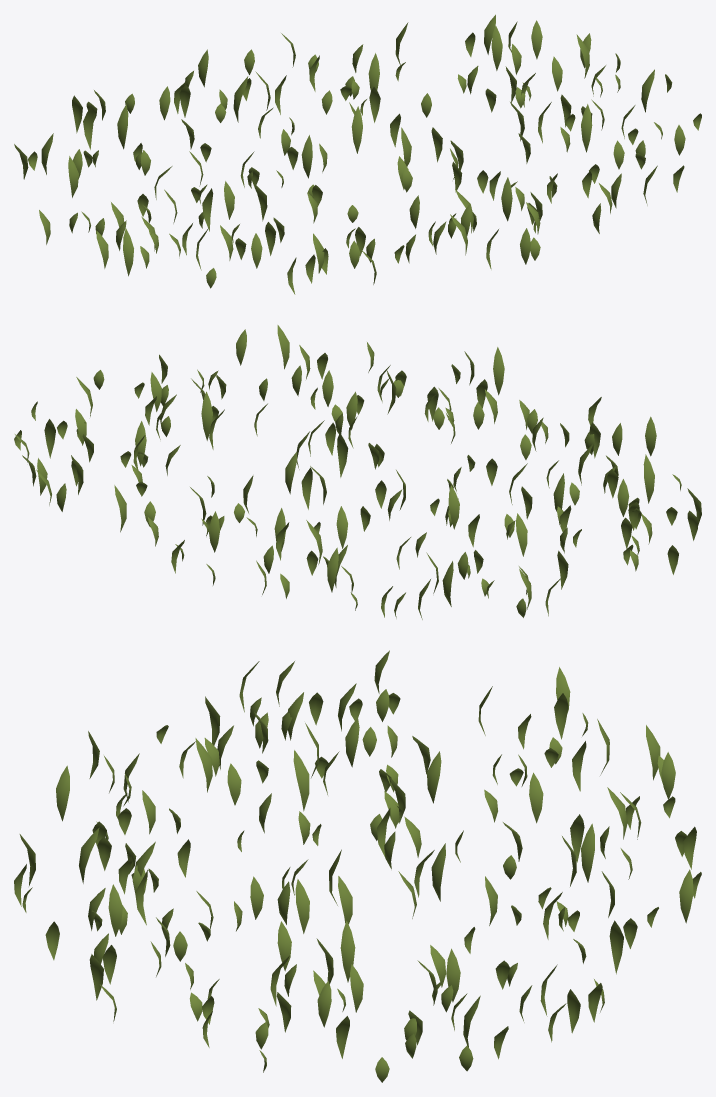
File: moss-patch-100.glb
The picture shows the model from 3 angles, top to bottom: view 1: azimuth 30°, elevation 25°; view 2: azimuth 150°, elevation 25°; view 3: azimuth 270°, elevation 25°; orthographic projection. The views are drawn at different scales.
Parts seen in each view (by area): view 1: moss-patch-100 / N10 / soft moss; view 2: moss-patch-100 / N10 / soft moss; view 3: moss-patch-100 / N10 / soft moss.
Part boxes in pixels (x1=…): moss-patch-100 / N10 / soft moss: x1=14, y1=14, x2=701, y2=294; moss-patch-100 / N10 / soft moss: x1=14, y1=325, x2=701, y2=619; moss-patch-100 / N10 / soft moss: x1=14, y1=650, x2=701, y2=1082.
Bounding box in the file's own units: 0.9515 × 0.0666 × 0.7046.
